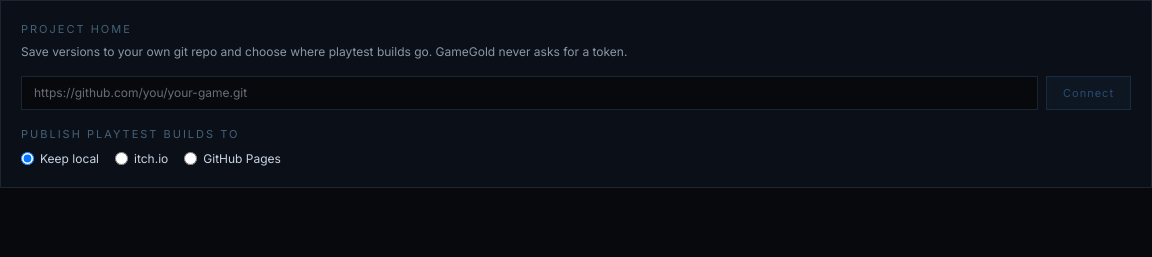
ProjectHomeCard › a credential URL shows the bridge error and saves nothing
Type "https://ghp_abc@github.com/me/Ripple.git" into the field named "Repo URL" at (530, 93), box [21, 76, 1038, 110]
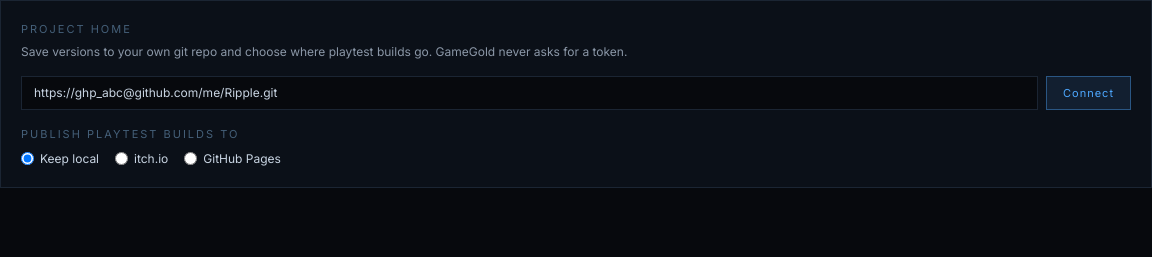
Click the button "Connect" at (1089, 93), box [1046, 76, 1131, 110]
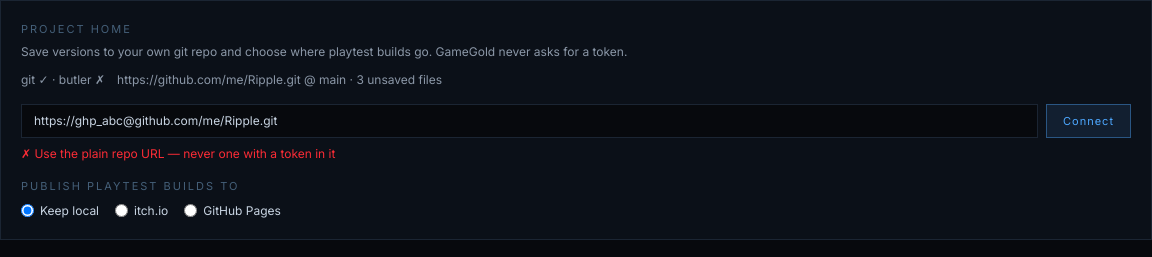
Expected: the message shows "never one with a token", [34, 146, 335, 161]
